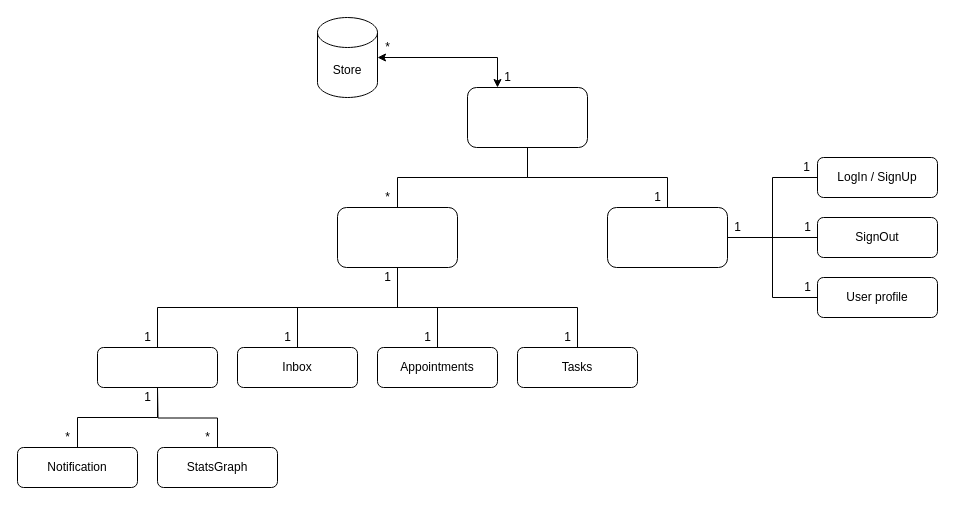
Some shapes in this 955 by 505 pixel diagram are drawn without their labels. The shapes that lost their labels are listed below. From the top down, each one's box as (x1, y1, x2, y2) in pixels, then its label:
(466, 86, 588, 148): App
(336, 206, 458, 268): Sidebar
(606, 206, 728, 268): Nav bar
(96, 346, 218, 388): Dashboard
